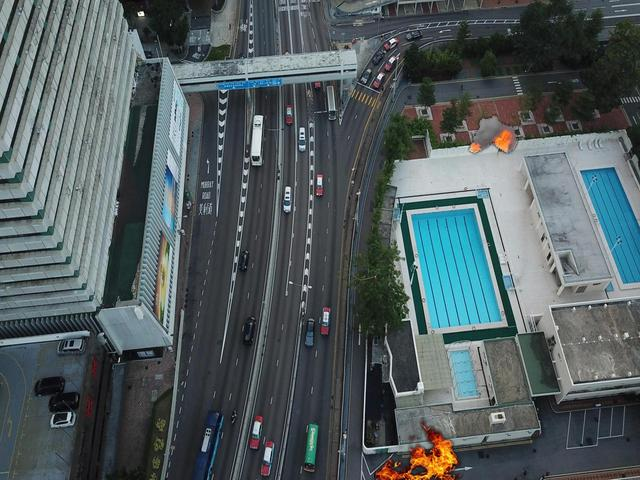fire: (375, 419, 462, 480), (467, 114, 519, 155)
